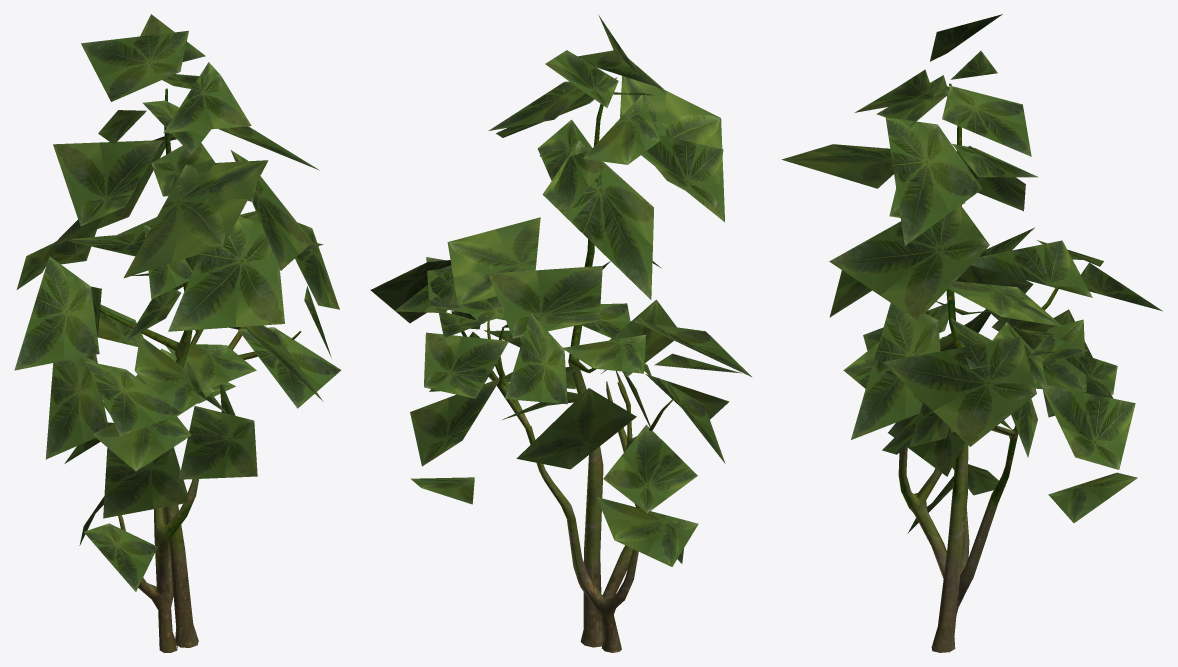
Rendered from pachira_aquatica_01.gltf.
The picture shows the model from 3 angles, left to right: view 1: azimuth 30°, elevation 25°; view 2: azimuth 150°, elevation 25°; view 3: azimuth 270°, elevation 25°; orthographic projection.
Visible parts, largest first — view 1: pachira_aquatica_01; view 2: pachira_aquatica_01; view 3: pachira_aquatica_01.
Part boxes in pixels (x1,y1,x2,y2): pachira_aquatica_01: (14,14,341,652); pachira_aquatica_01: (370,14,752,652); pachira_aquatica_01: (782,14,1162,652).
Bounding box in the file's own units: 1.03 × 1.8 × 1.01.
Materials: 1 (1 with a texture image).
